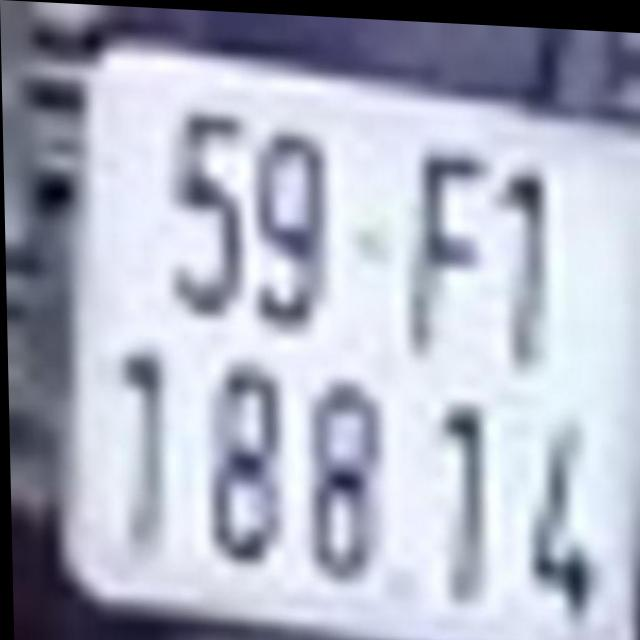1: (431, 397, 492, 603), (502, 157, 557, 374), (117, 345, 166, 551)
4: (524, 405, 597, 616)
5: (160, 102, 243, 325)
8: (199, 354, 285, 564), (310, 371, 384, 587)
9: (244, 124, 330, 330)
F: (399, 138, 493, 364)
